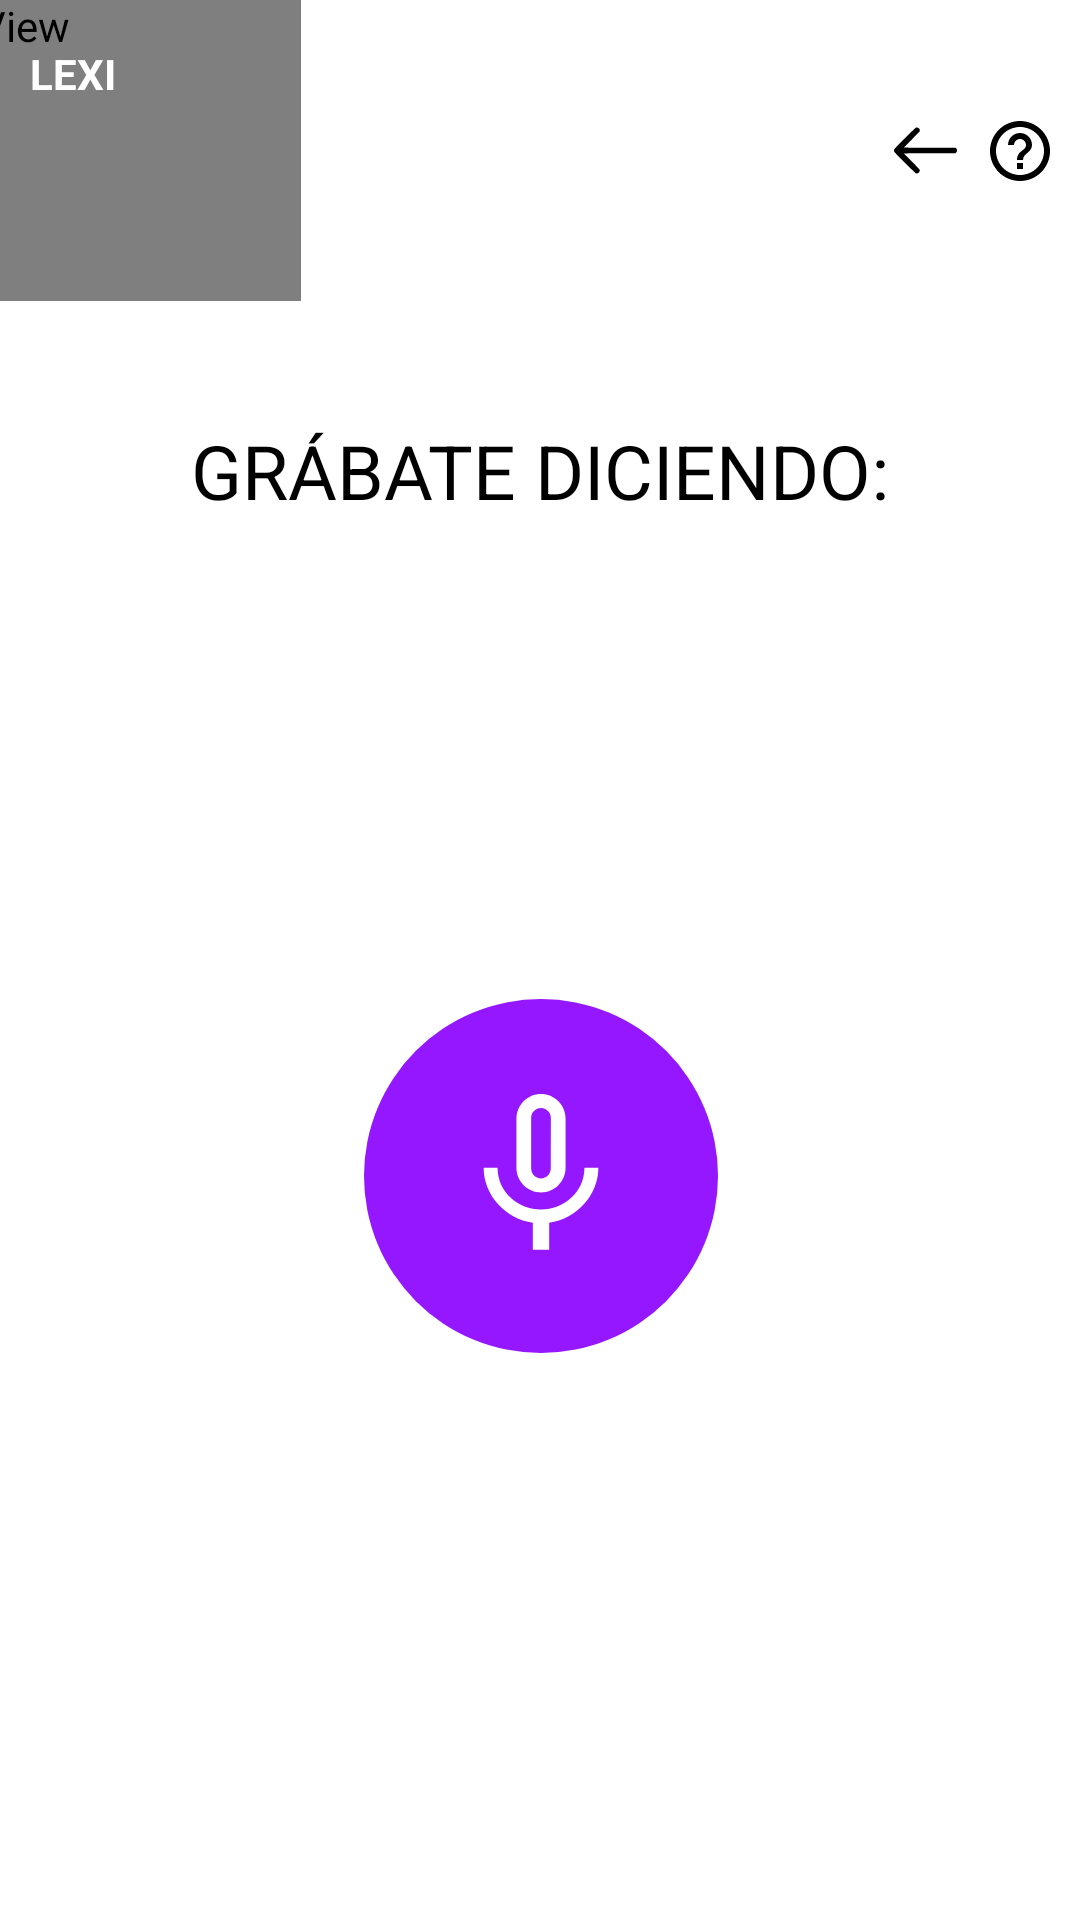

Locate icon controls on the screen. Image size 1080 x 1920, boxes as {"x1": x1, "y1": y1, "x2": x2, "y2": y2}.
arrow back: {"x1": 894, "y1": 127, "x2": 957, "y2": 174}
